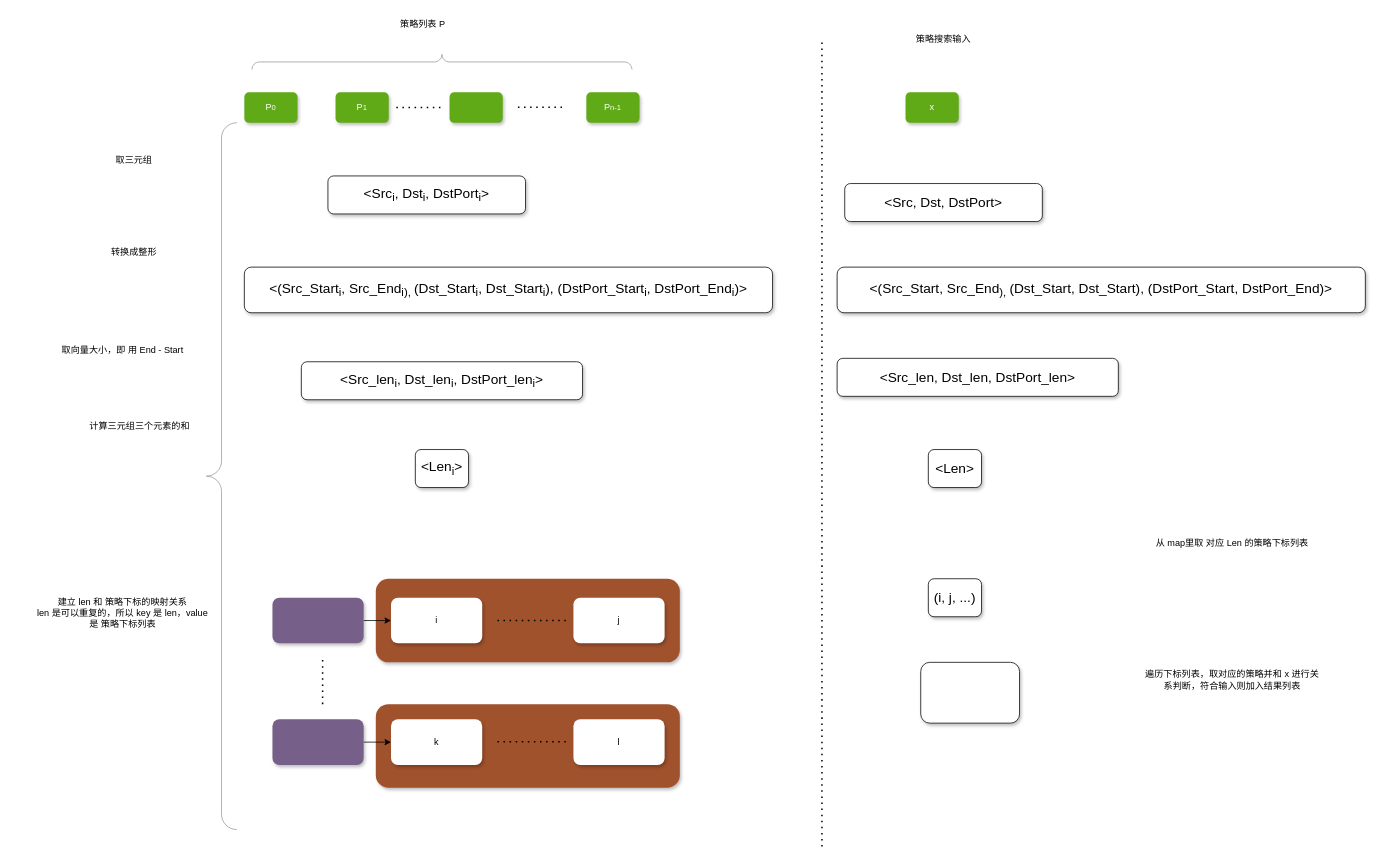
Image size: 1383x861. Some labels were removed from this diagram. Each missing label, with the centre of its shape:
(P i , P j , ...): point 970,693
Len x: point 318,621
Len y: point 318,743
P i: point 476,108
